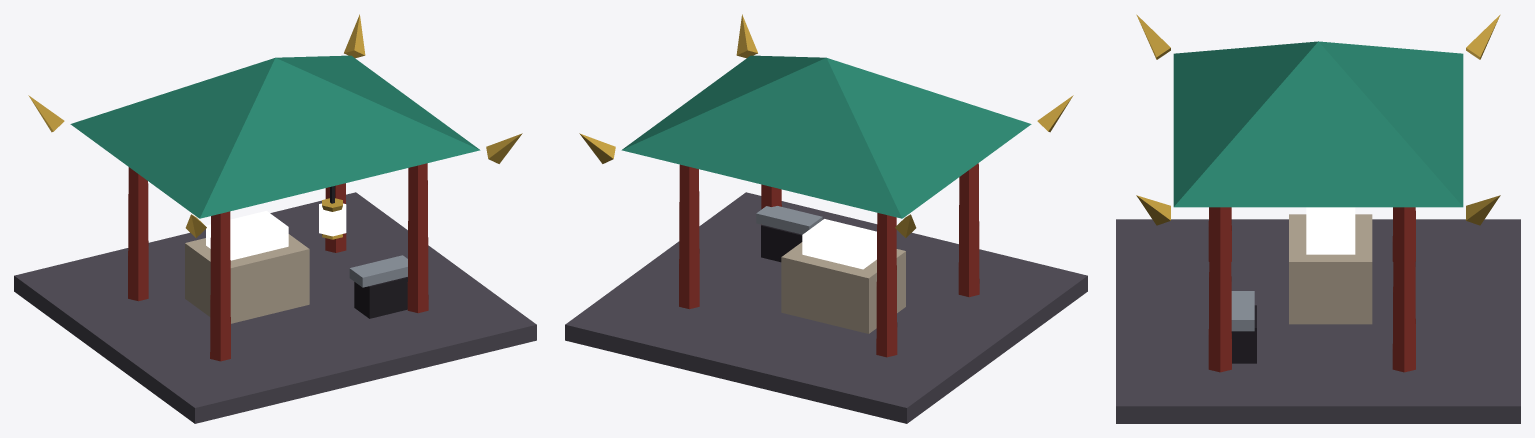
Rendered from workshop_t1.glb.
The picture shows the model from 3 angles, left to right: view 1: azimuth 30°, elevation 25°; view 2: azimuth 150°, elevation 25°; view 3: azimuth 270°, elevation 25°; orthographic projection. The views are drawn at different scales.
Visible parts, largest first — view 1: body, glow; view 2: body, glow; view 3: body, glow.
Boxes of the visible parts, x1,y1,x2,y2 form: body: (14, 14, 536, 423); glow: (206, 203, 346, 260); body: (565, 14, 1087, 423); glow: (802, 219, 876, 269); body: (1116, 14, 1520, 423); glow: (1306, 207, 1355, 254).
Size of the model in its own units: 1.8 by 1.3 by 1.65.
